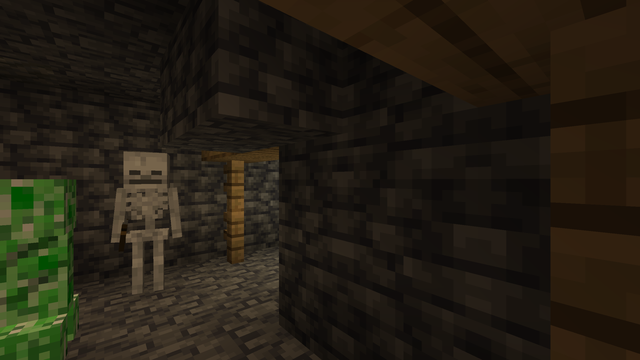creepers: (2, 170, 79, 358)
squelettes: (121, 151, 175, 303)
